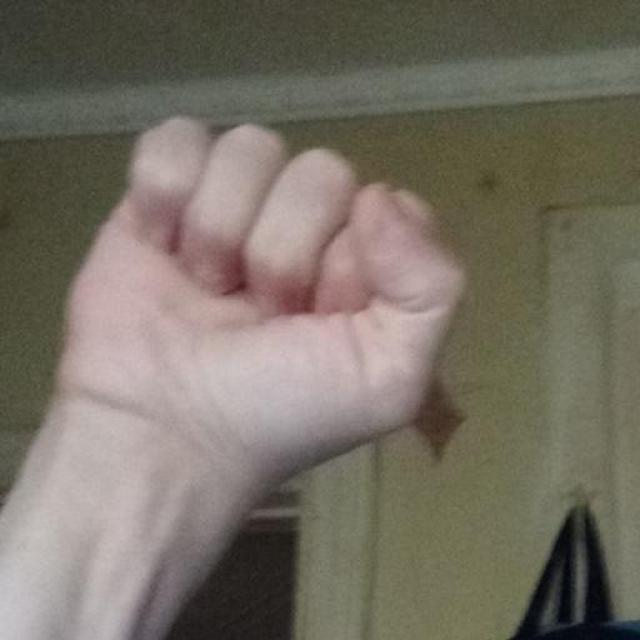hand: (0, 114, 468, 638)
